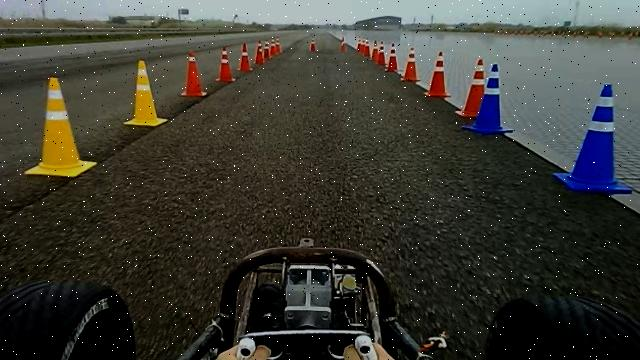blue cone: (553, 82, 633, 195), (462, 63, 514, 134), (592, 105, 614, 121), (600, 83, 614, 97)
red cone: (455, 58, 486, 118), (180, 50, 208, 98), (424, 50, 451, 98), (215, 45, 236, 83), (401, 46, 421, 82), (238, 41, 253, 72), (385, 42, 399, 72)
yellow cone: (24, 76, 98, 178), (123, 59, 168, 127)
